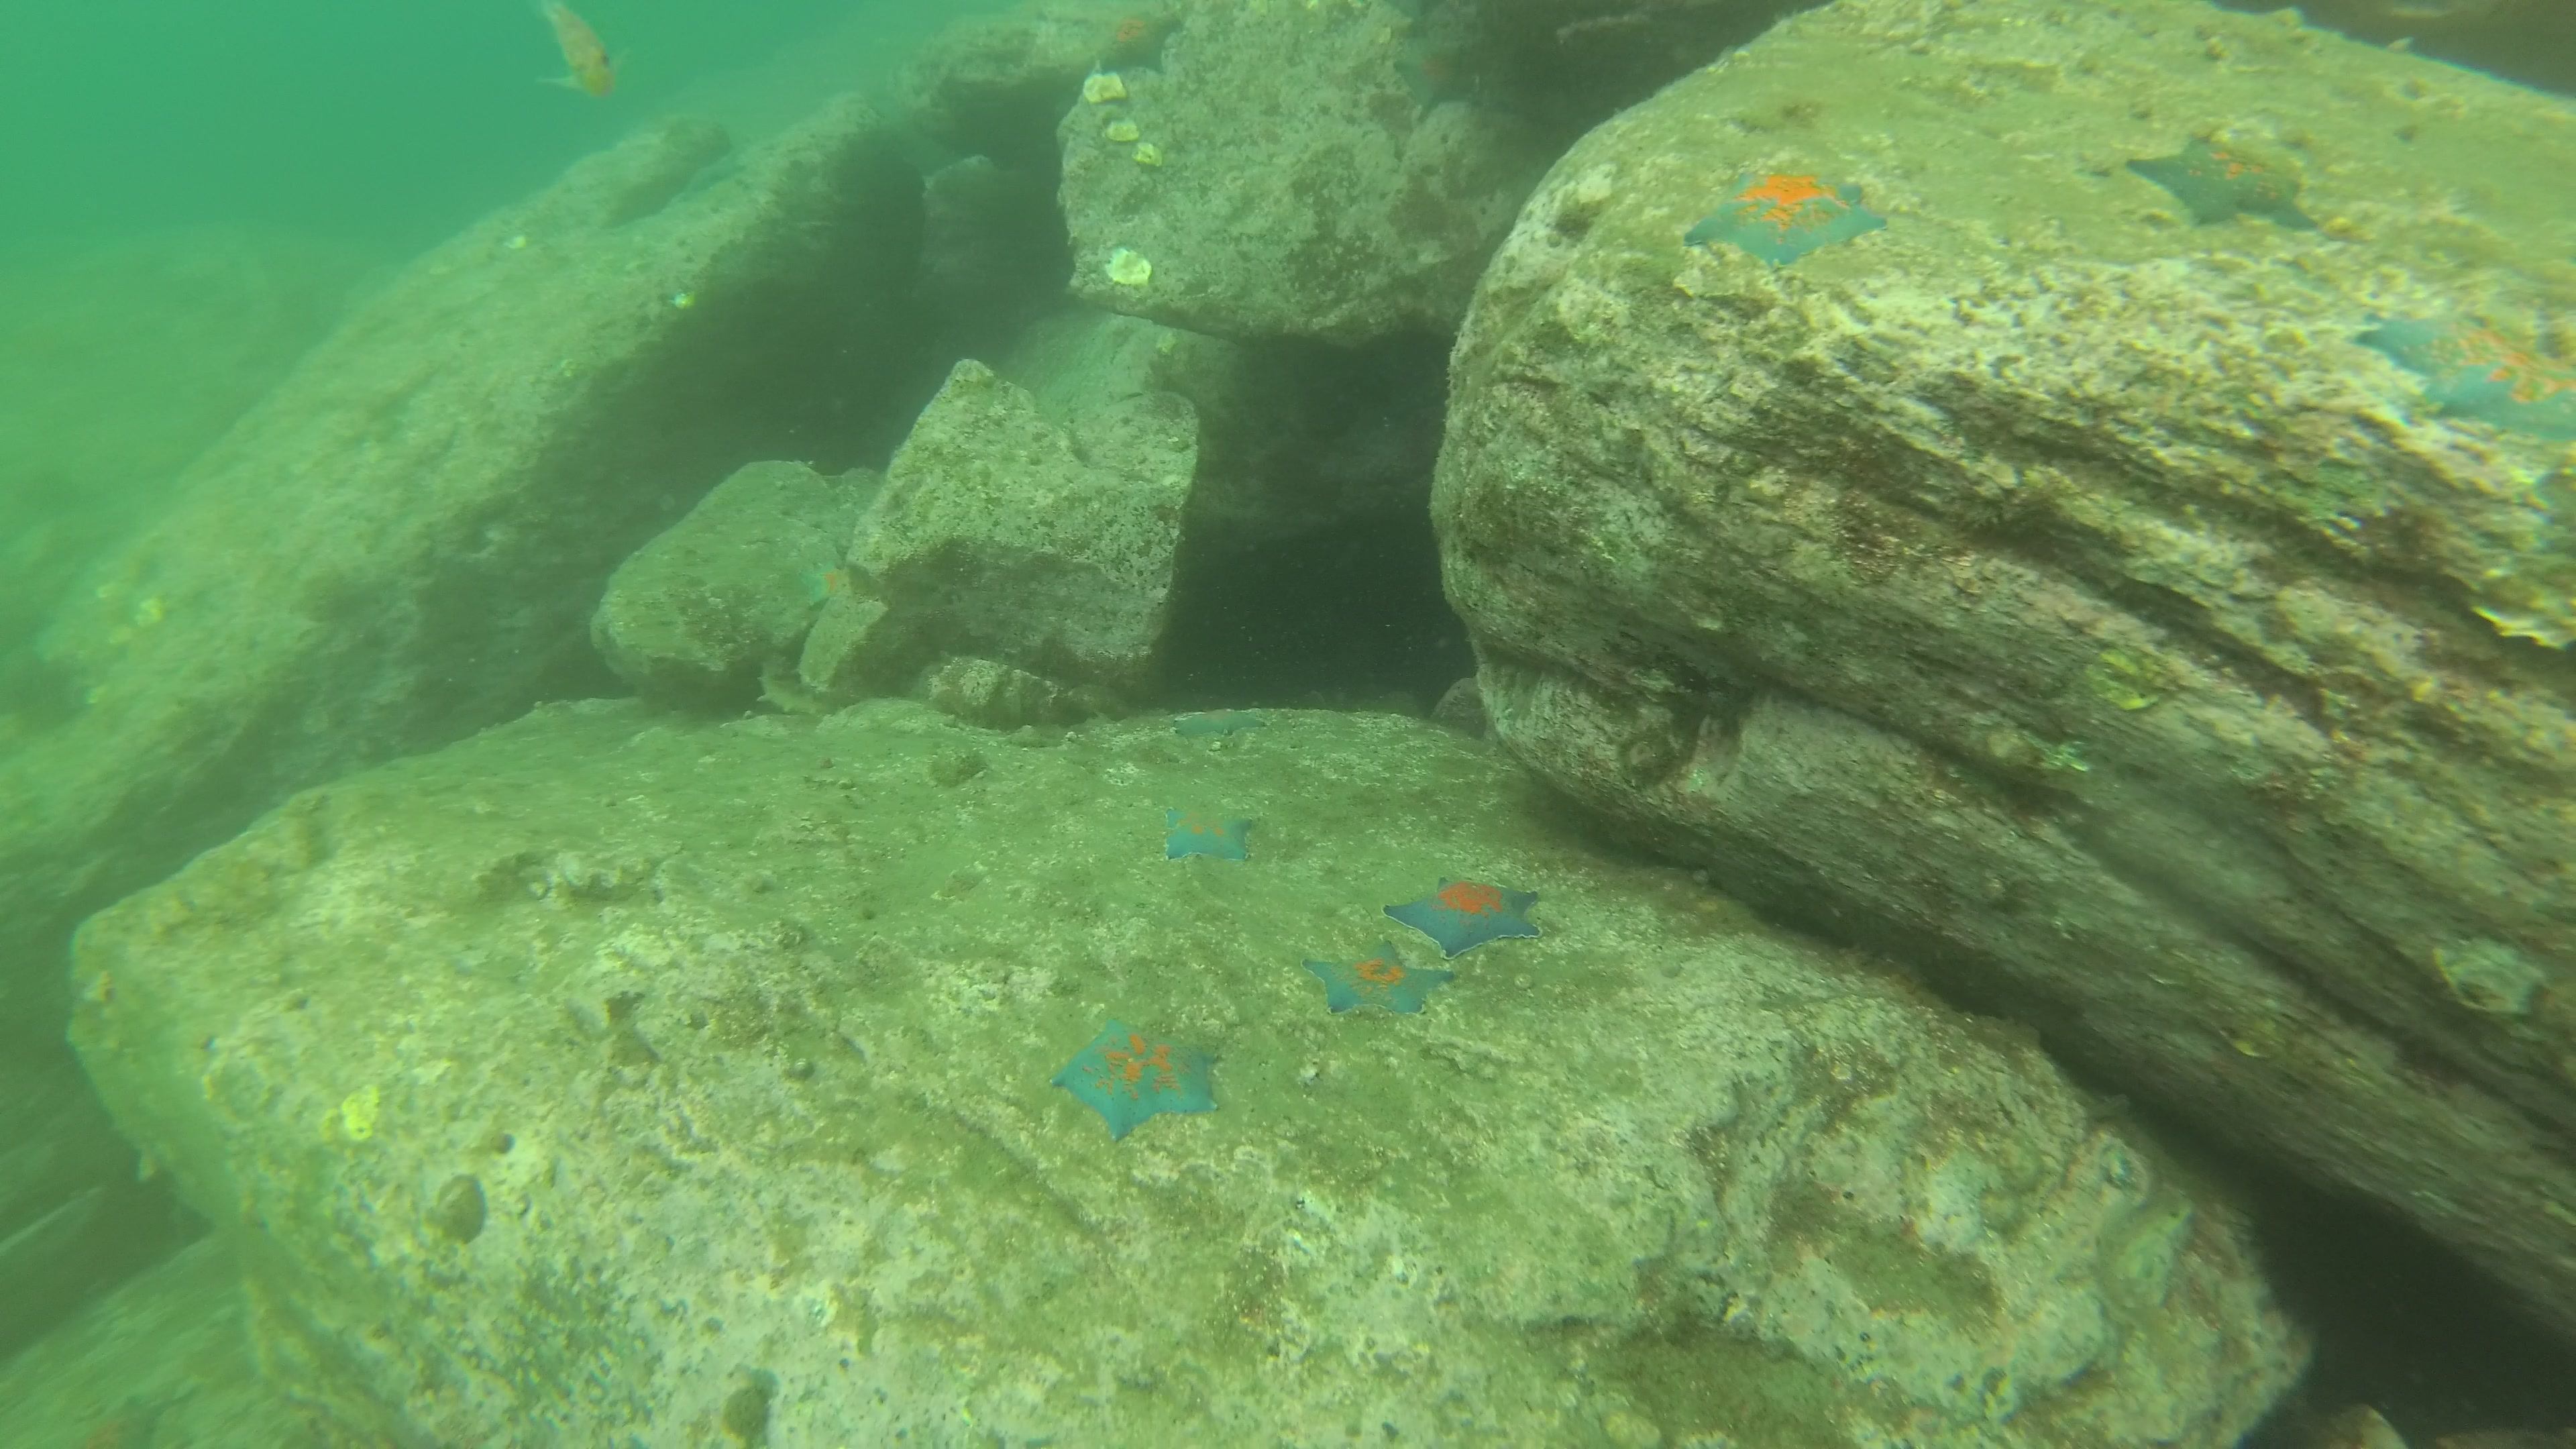echinus: (2226, 1185, 2440, 1343)
starfish: (2357, 306, 2576, 449), (1683, 165, 1890, 276), (1051, 1014, 1223, 1141), (2123, 134, 2321, 234), (1299, 934, 1458, 1017), (1382, 876, 1550, 950), (1391, 32, 1481, 117), (1090, 2, 1177, 80), (1161, 801, 1258, 867), (674, 138, 747, 202), (1171, 706, 1269, 743), (798, 552, 856, 612)
